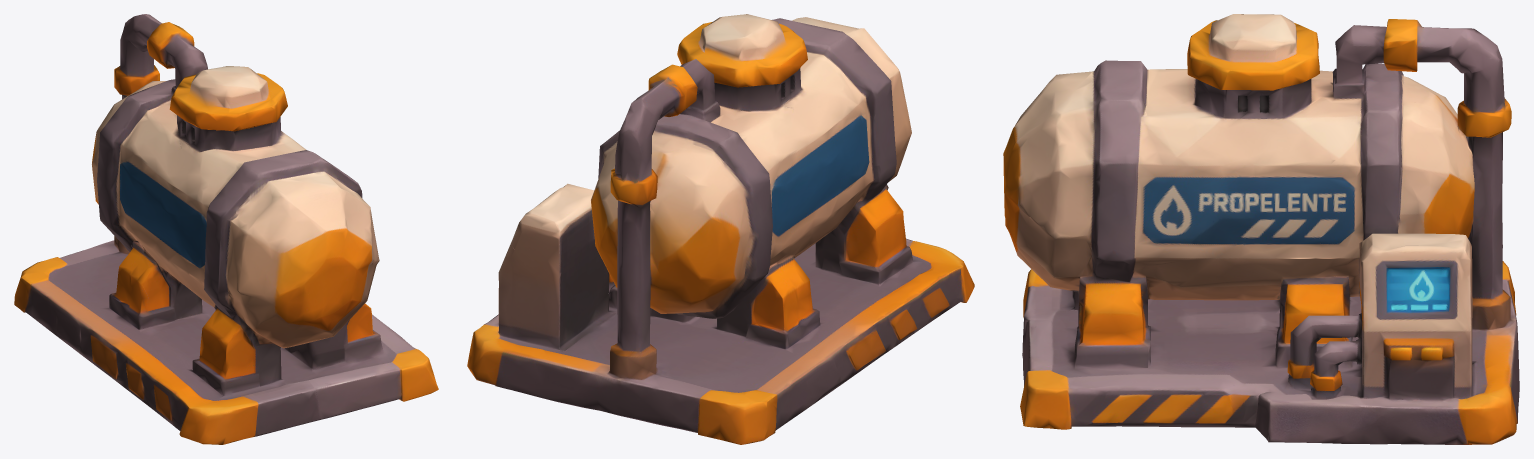
The model's file is deposito_propelente.glb.
The picture shows the model from 3 angles, left to right: view 1: azimuth 30°, elevation 25°; view 2: azimuth 150°, elevation 25°; view 3: azimuth 270°, elevation 25°; orthographic projection. The views are drawn at different scales.
Visible parts, largest first — view 1: tripo_node_6d09afa1-544e-4a60-9bdb-113ff6accf3a; view 2: tripo_node_6d09afa1-544e-4a60-9bdb-113ff6accf3a; view 3: tripo_node_6d09afa1-544e-4a60-9bdb-113ff6accf3a.
Part boxes in pixels (x1,y1,x2,y2): tripo_node_6d09afa1-544e-4a60-9bdb-113ff6accf3a: [14, 14, 438, 444]; tripo_node_6d09afa1-544e-4a60-9bdb-113ff6accf3a: [467, 14, 974, 444]; tripo_node_6d09afa1-544e-4a60-9bdb-113ff6accf3a: [1003, 14, 1519, 444].
Bounding box in the file's own units: 0.7502 × 0.7281 × 1.
1 material, 1 textured.
